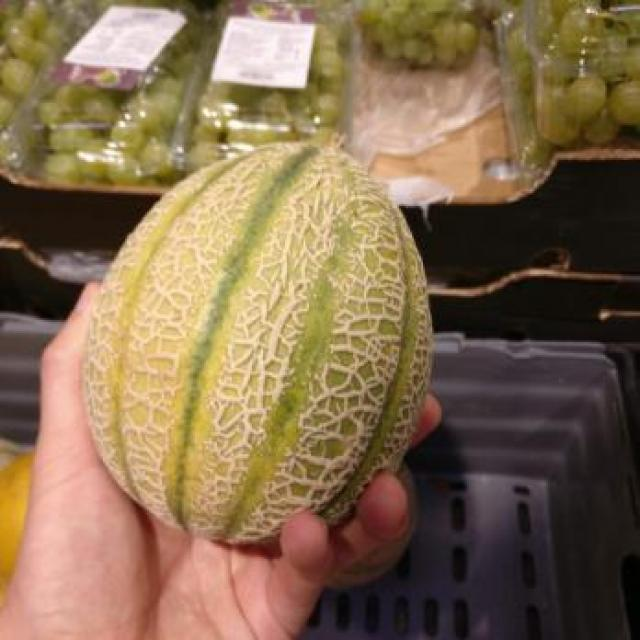Cantaloupe: (81, 144, 436, 547)
Grapes: (7, 4, 199, 188), (199, 6, 350, 158), (506, 4, 638, 155), (359, 2, 481, 70)
